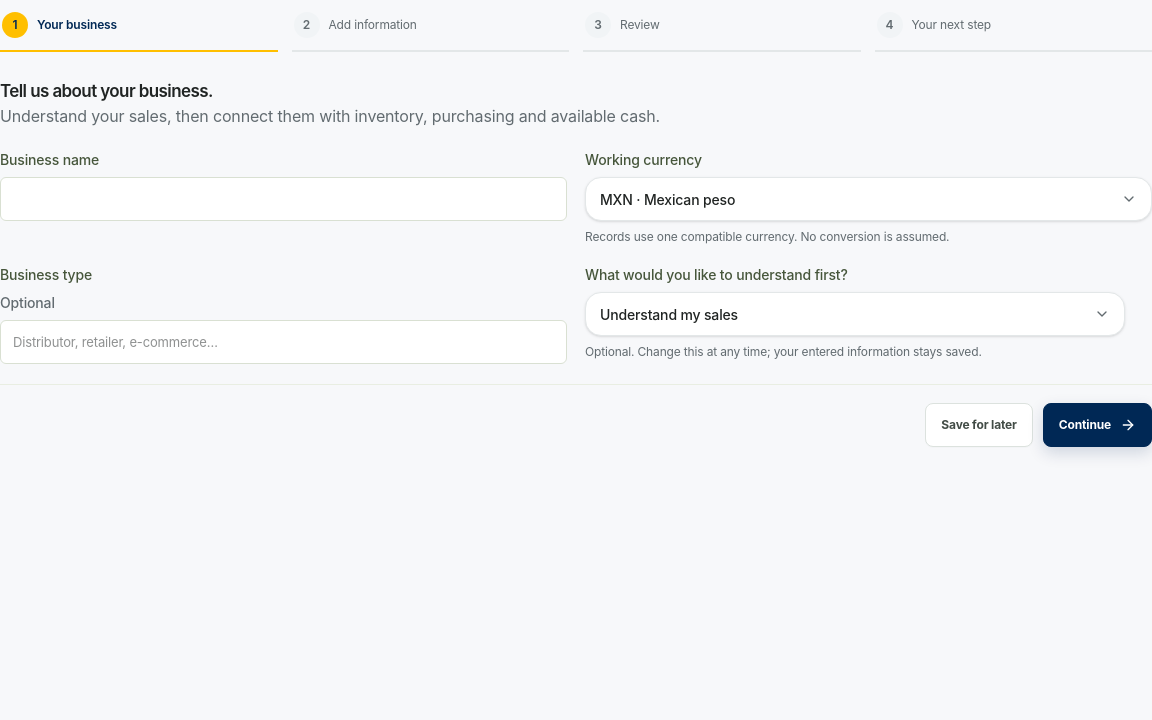
Test: guided onboarding continuity › collects minimal profile before a fresh sales shortcut
Step 1. Type "Corner shop" into the field labelled "Business name" → (284, 199), box [0,177,567,221]
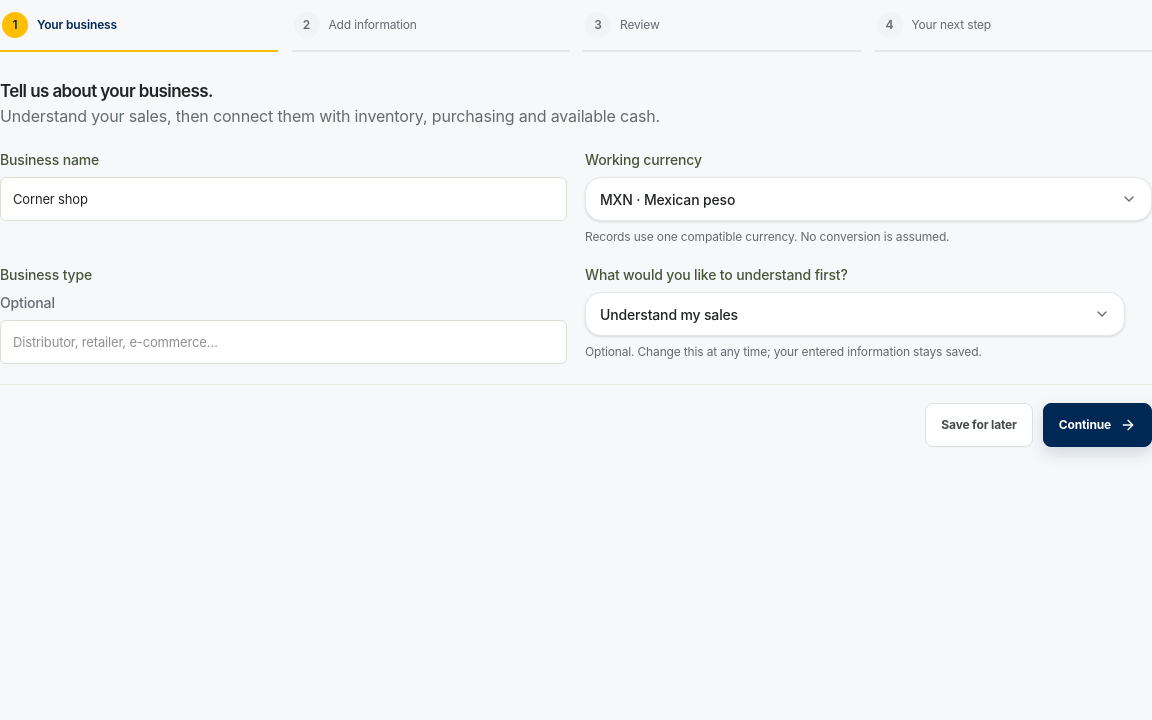
Step 2. Clear the dropdown named "What would you like to understand first?" → (669, 314), box [585,292,1125,336]
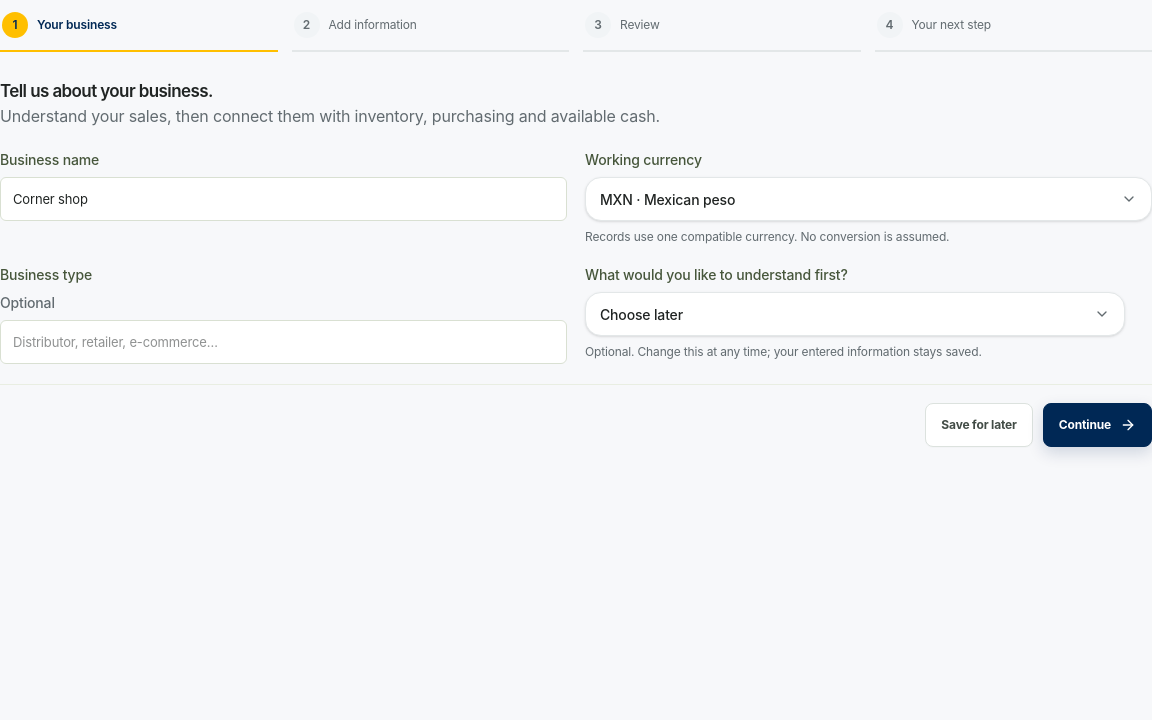
Step 3. Click the button "Continue" → (1097, 425), box [1043,403,1151,447]
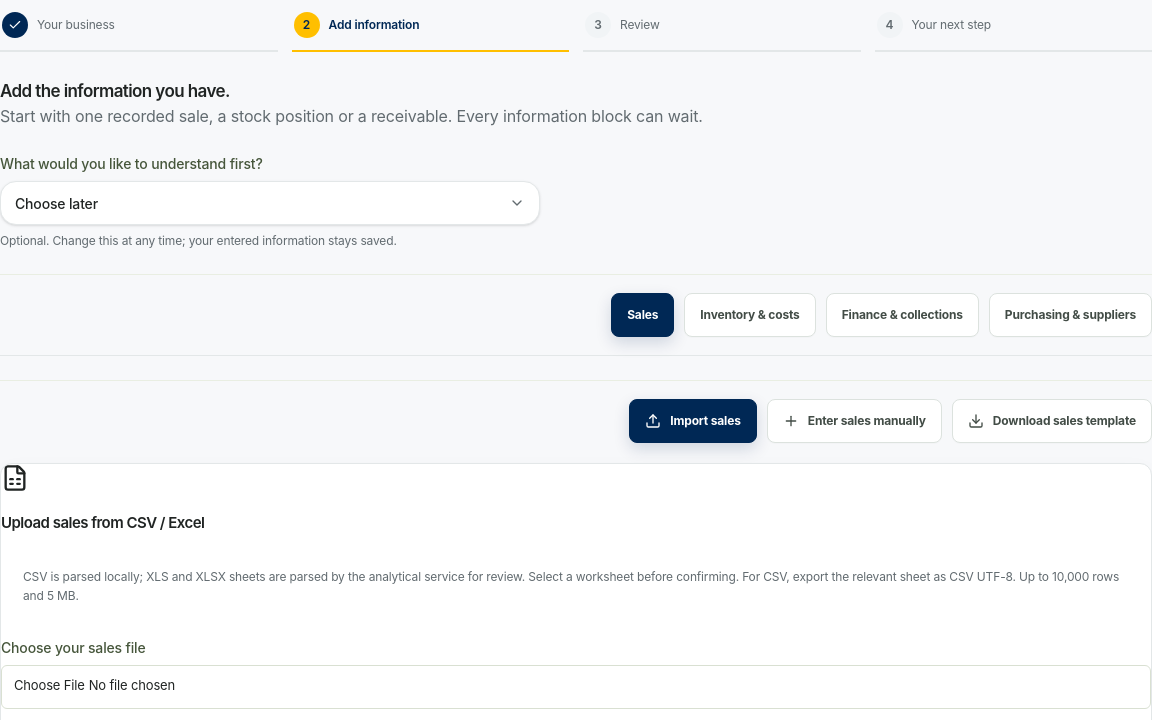
Expected: the label labelled "Business name" is gone
